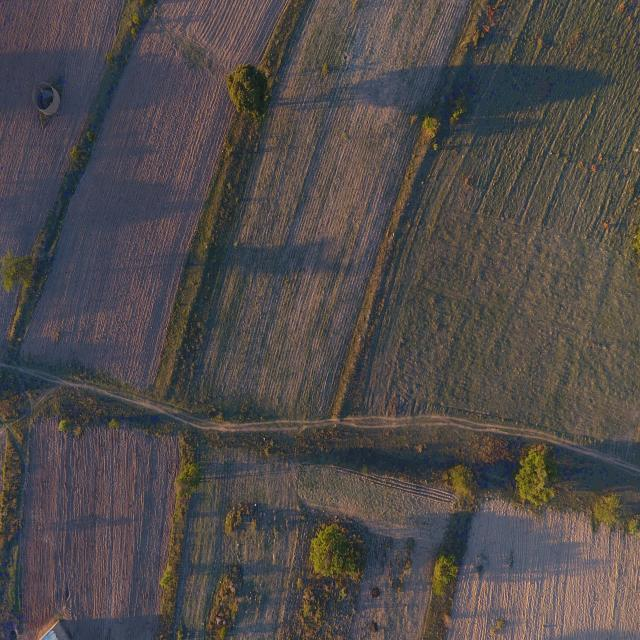boundaries: (327, 25, 495, 413), (146, 26, 302, 395), (22, 10, 150, 287), (152, 453, 210, 612)
